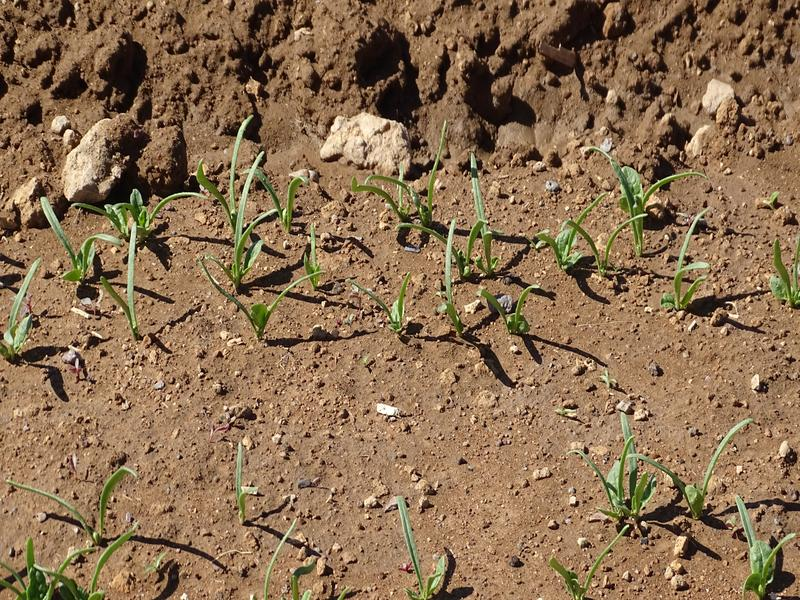Espinaca: (586, 401, 792, 594), (362, 146, 542, 336), (17, 165, 202, 344), (205, 116, 326, 332), (549, 156, 728, 296), (14, 461, 143, 597), (393, 499, 448, 598), (771, 239, 800, 299)
